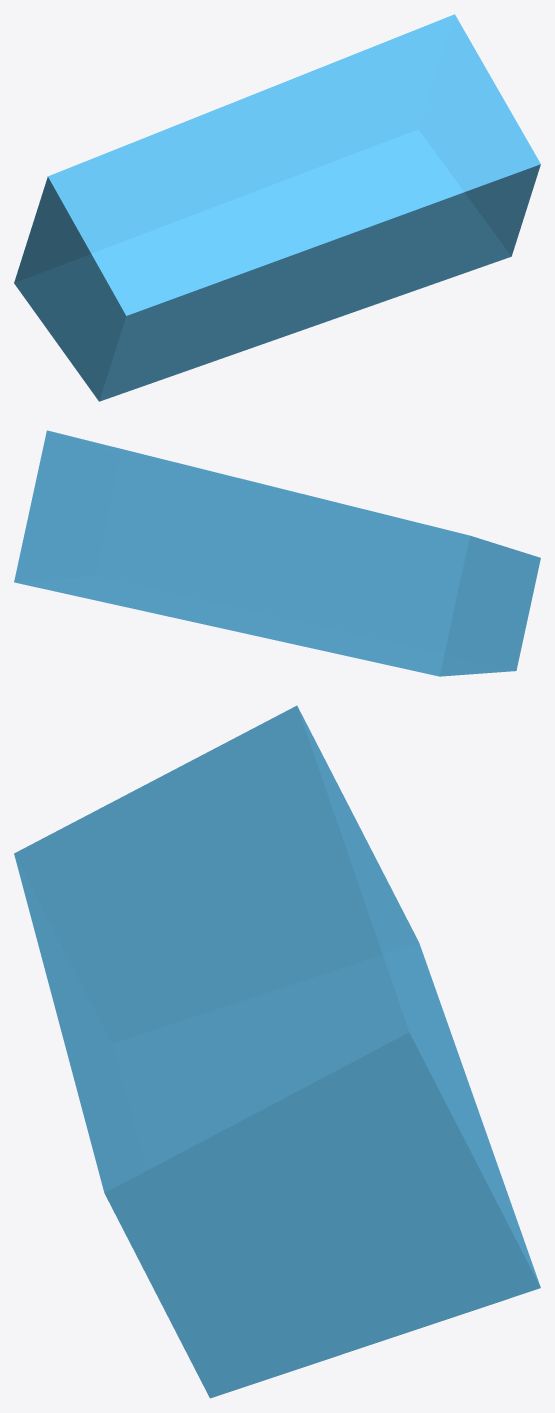
The model's file is Event_421127236_HErechit_20.fbx.
3 renders of one model, top to bottom at view 1: azimuth 30°, elevation 25°; view 2: azimuth 150°, elevation 25°; view 3: azimuth 270°, elevation 25°, orthographic. The views are drawn at different scales.
Visible parts, largest first — view 1: Model; view 2: Model; view 3: Model.
Part boxes in pixels (bbox=[...]): Model: bbox=[14, 14, 540, 401]; Model: bbox=[14, 430, 540, 676]; Model: bbox=[14, 705, 540, 1398].
Bounding box in the file's own units: 0.7981 × 0.3821 × 0.4593.
